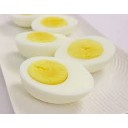begg: (20, 58, 94, 101), (15, 32, 66, 56), (69, 37, 116, 56)
